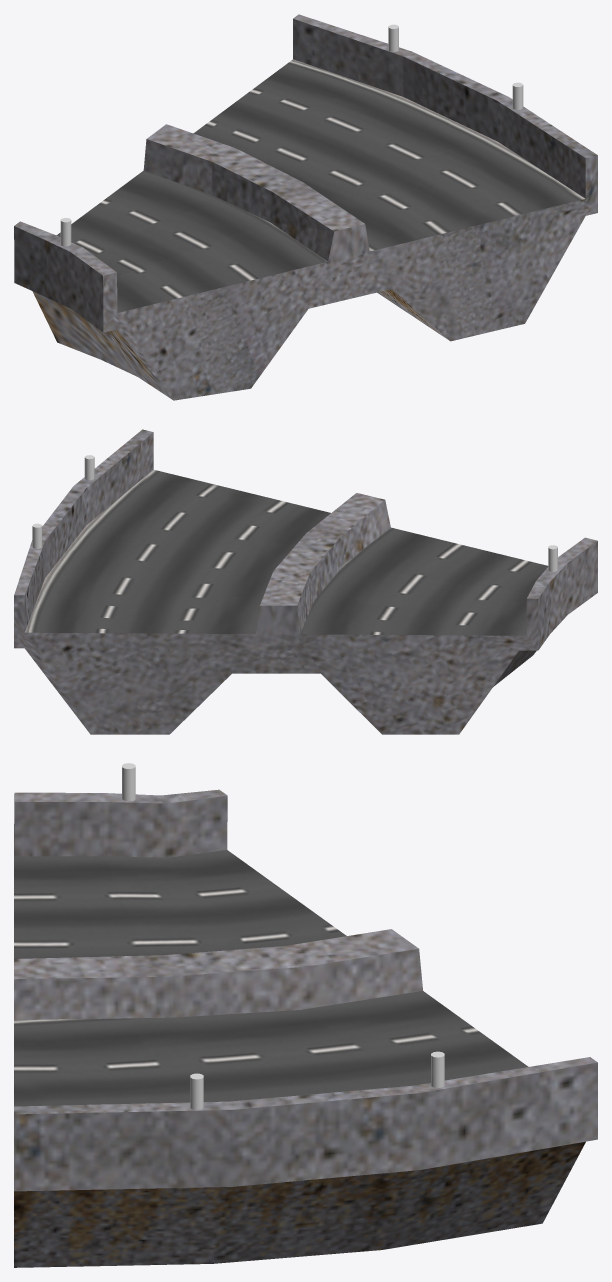
The model's file is highway bend.FBX.
3 views of the same model, one above another, from view 1: azimuth 30°, elevation 25°; view 2: azimuth 150°, elevation 25°; view 3: azimuth 270°, elevation 25° (orthographic). The views are drawn at different scales.
Visible parts, largest first — view 1: highwaybend; view 2: highwaybend; view 3: highwaybend.
Part boxes in pixels (left/top/right/bottom): highwaybend: left=14, top=14, right=597, bottom=400; highwaybend: left=14, top=429, right=597, bottom=734; highwaybend: left=14, top=789, right=597, bottom=1267.
Size of the model in its own units: 9719 by 3193 by 7281.
